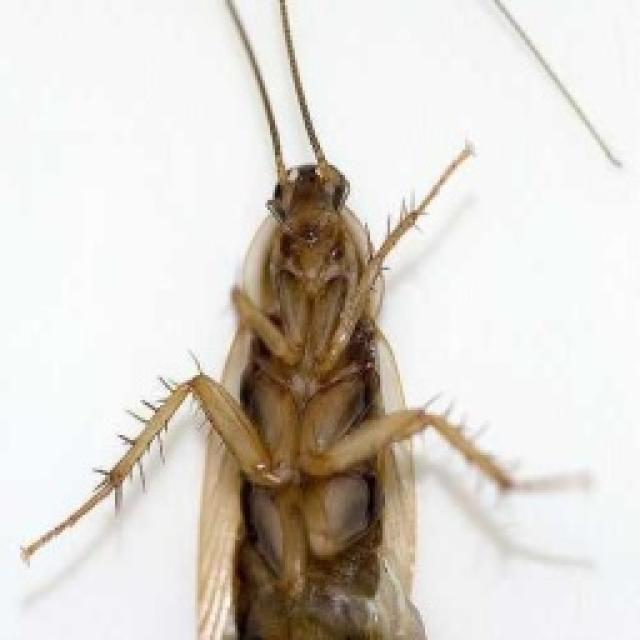cockroach: (23, 49, 484, 640)
